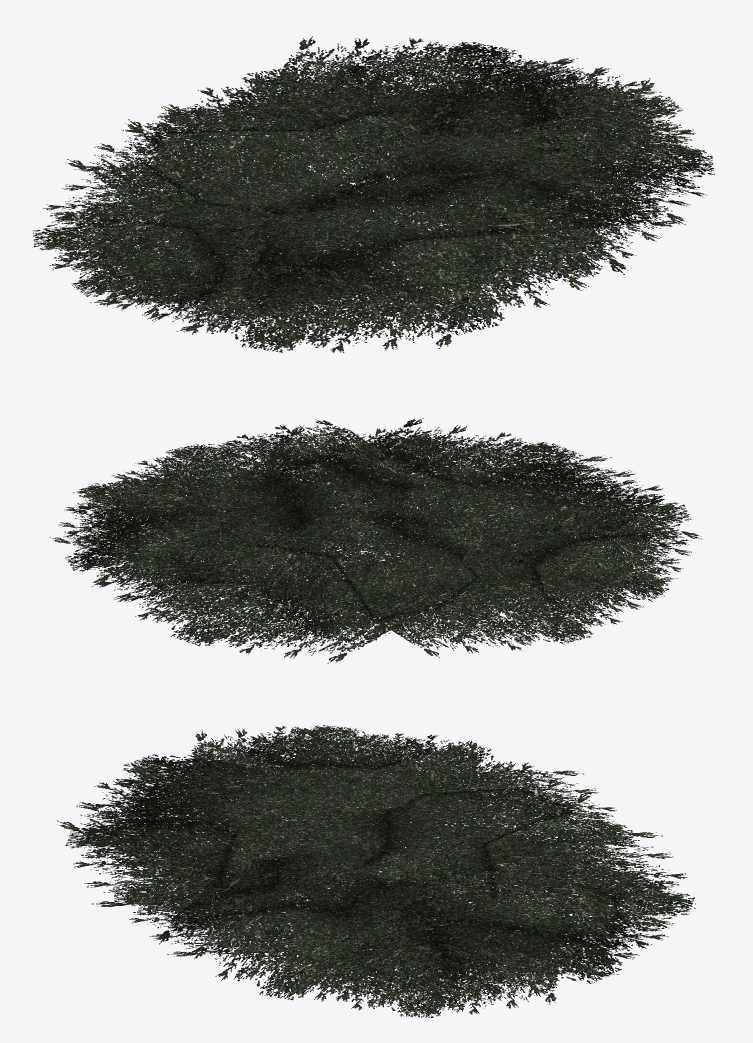
The model's file is KM_VOB_TRAP_01.glb.
3 renders of one model, top to bottom at view 1: azimuth 30°, elevation 25°; view 2: azimuth 150°, elevation 25°; view 3: azimuth 270°, elevation 25°, orthographic. The views are drawn at different scales.
Visible parts, largest first — view 1: Mesh; view 2: Mesh; view 3: Mesh.
Part boxes in pixels (x1,y1,x2,y2): Mesh: [33, 36, 714, 352]; Mesh: [50, 418, 702, 663]; Mesh: [57, 725, 695, 1017].
Size of the model in its own units: 6 by 0.3011 by 5.63.
Materials: 1 (1 with a texture image).
